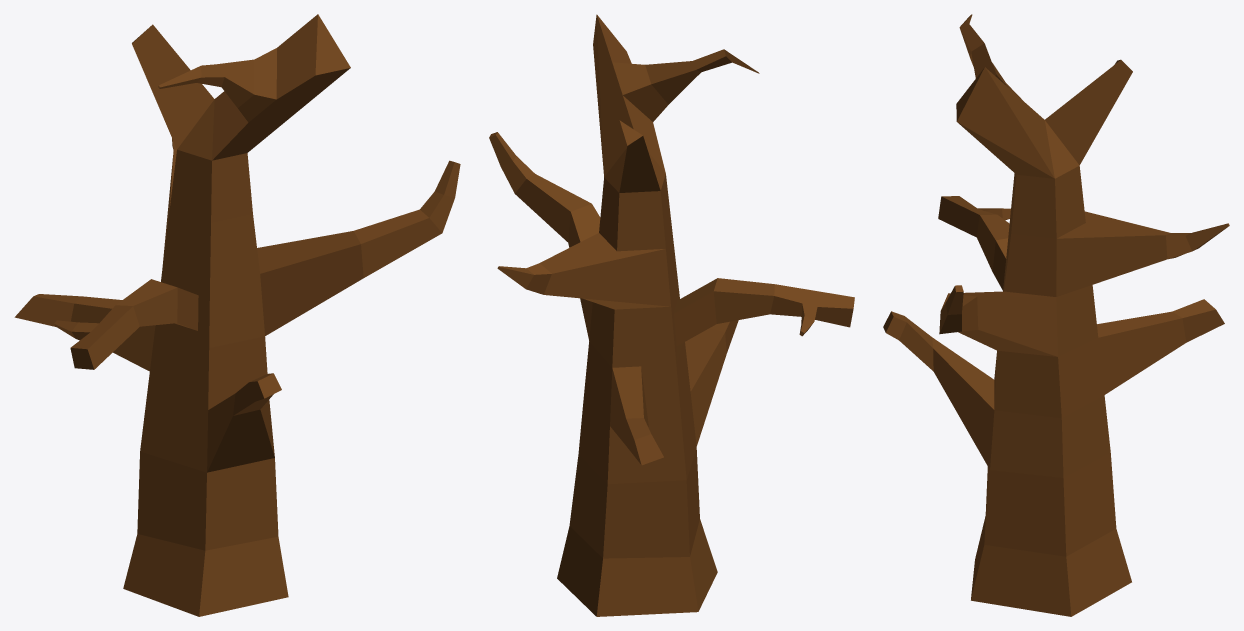
File: DeadTree1.fbx
The picture shows the model from 3 angles, left to right: view 1: azimuth 30°, elevation 25°; view 2: azimuth 150°, elevation 25°; view 3: azimuth 270°, elevation 25°; orthographic projection. The views are drawn at different scales.
Parts seen in each view (by area): view 1: Cylinder; view 2: Cylinder; view 3: Cylinder.
Part boxes in pixels (x1,y1,x2,y2): Cylinder: (14,14,460,616); Cylinder: (489,14,854,616); Cylinder: (883,14,1229,616).
Bounding box in the file's own units: 484 × 606 × 849.
